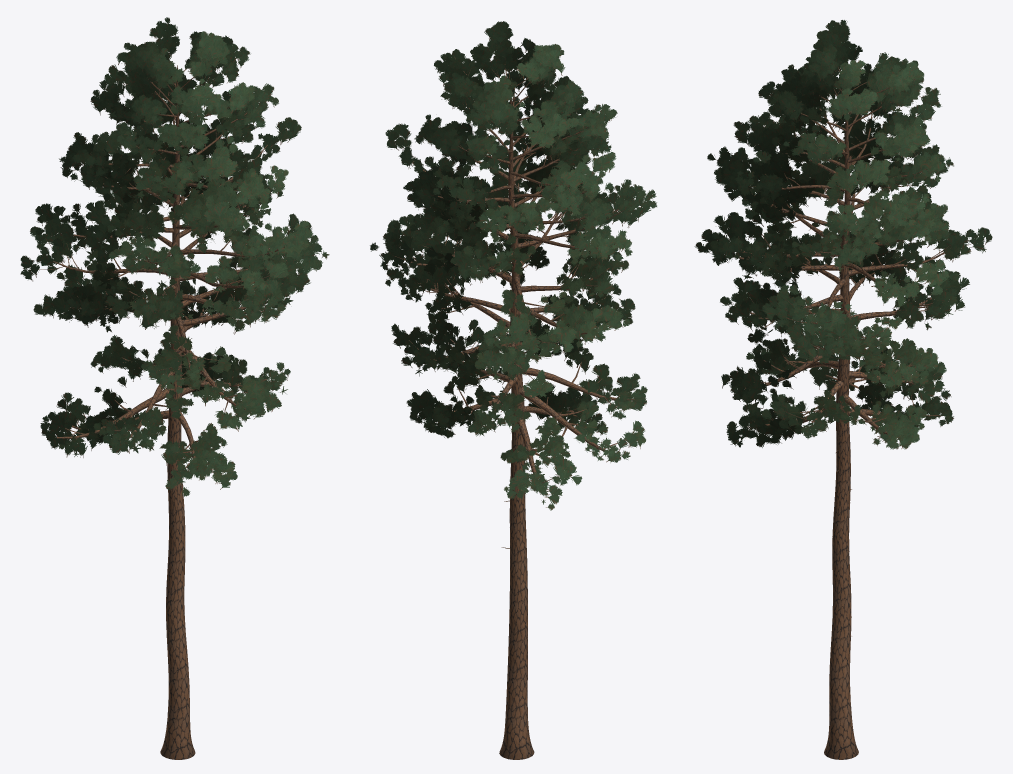
Rendered from pine_a.glb.
3 views of the same model, side by side, from view 1: azimuth 30°, elevation 25°; view 2: azimuth 150°, elevation 25°; view 3: azimuth 270°, elevation 25° (orthographic).
Visible parts, largest first — view 1: pine_a; view 2: pine_a; view 3: pine_a.
Part boxes in pixels (x1,y1,x2,y2): pine_a: (20,17,329,759); pine_a: (370,21,656,759); pine_a: (694,20,992,759).
Size of the model in its own units: 11.51 by 29.68 by 11.41.
Materials: 2 (2 with a texture image).
